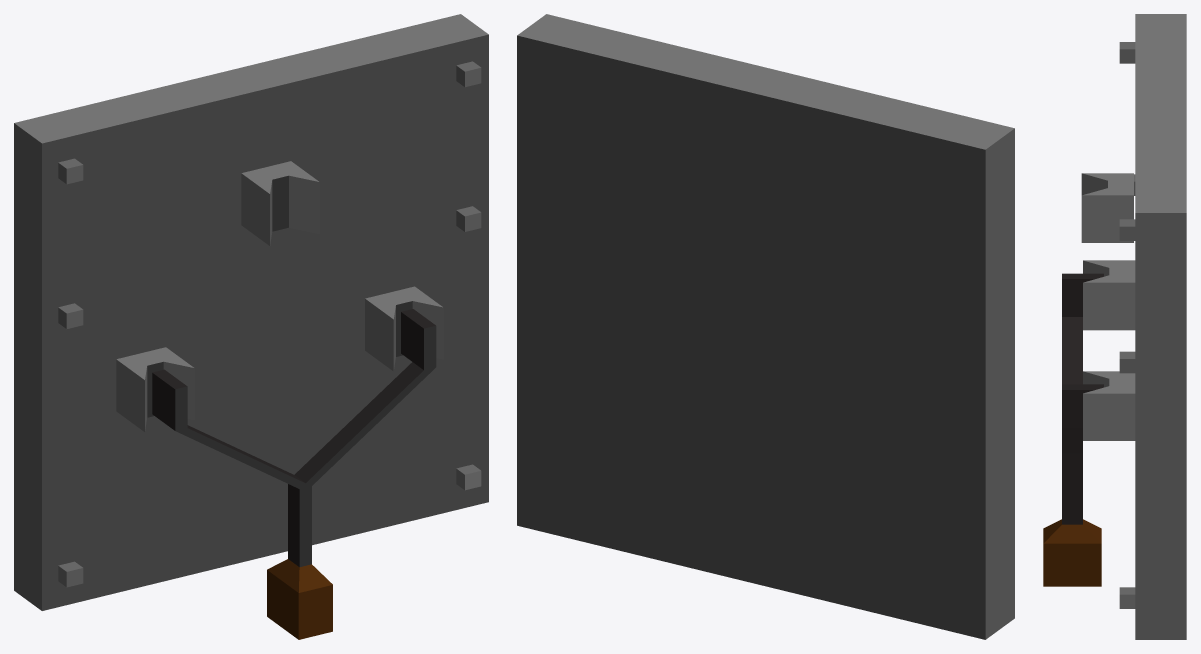
File: Lever_788x00.gltf
The picture shows the model from 3 angles, left to right: view 1: azimuth 30°, elevation 25°; view 2: azimuth 150°, elevation 25°; view 3: azimuth 270°, elevation 25°; orthographic projection. The views are drawn at different scales.
Parts seen in each view (by area): view 1: Lever_788x0; view 2: Lever_788x0; view 3: Lever_788x0.
Boxes of the visible parts, bbox=[...] form: Lever_788x0: bbox=[14, 14, 488, 639]; Lever_788x0: bbox=[517, 14, 1014, 639]; Lever_788x0: bbox=[1043, 14, 1186, 639].
Size of the model in its own units: 0.898 by 0.979 by 0.2733.
Materials: 1 (1 with a texture image).
